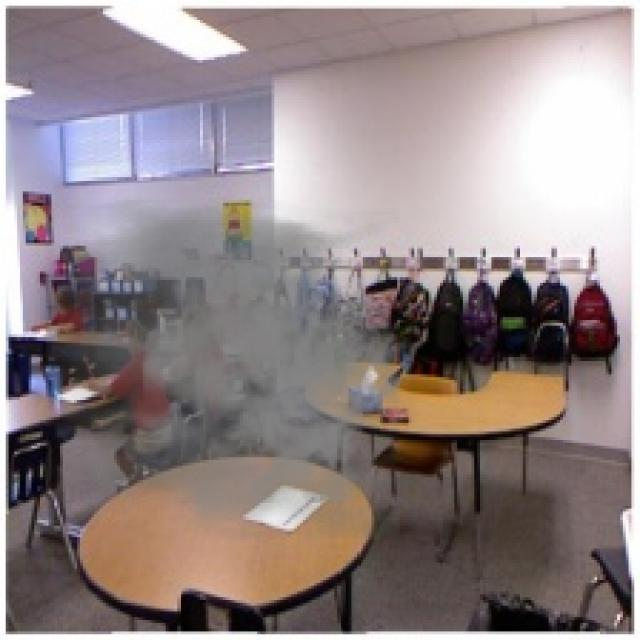smoke: (46, 197, 411, 540)
